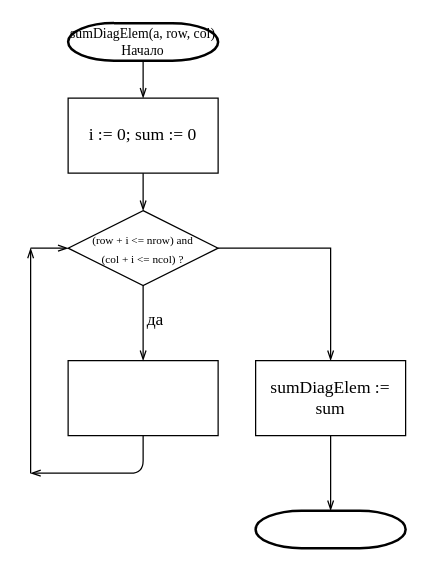
The diagram is 429 pixels wide and 570 high, and some of its shapes have lost their labels. Here are the shapes that lost their labels. From the top down, the centre of each, then its label:
(142,397): sum := sum + a[i][j]; i := i + 1
(330,529): sumDiagElem Конец
